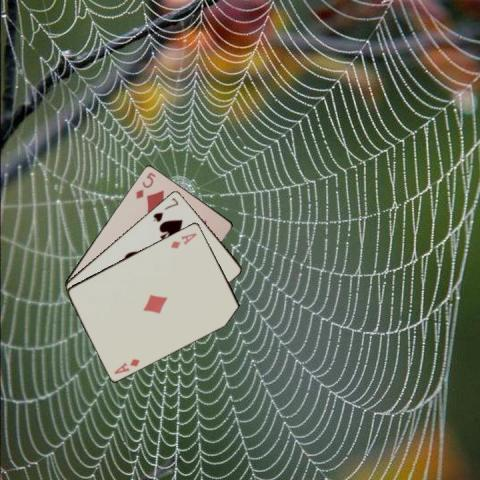5d: (133, 169, 157, 200)
7s: (150, 195, 180, 223)
Ad: (167, 229, 198, 250), (111, 356, 141, 376)
